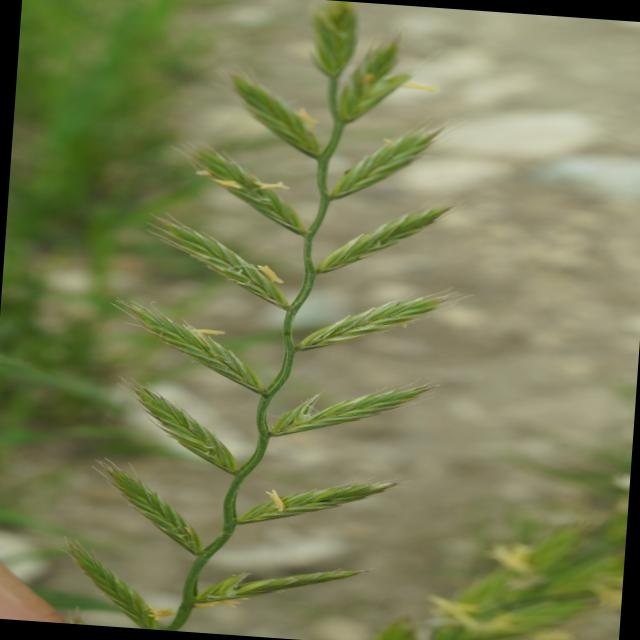Lolium: (57, 0, 486, 640)
